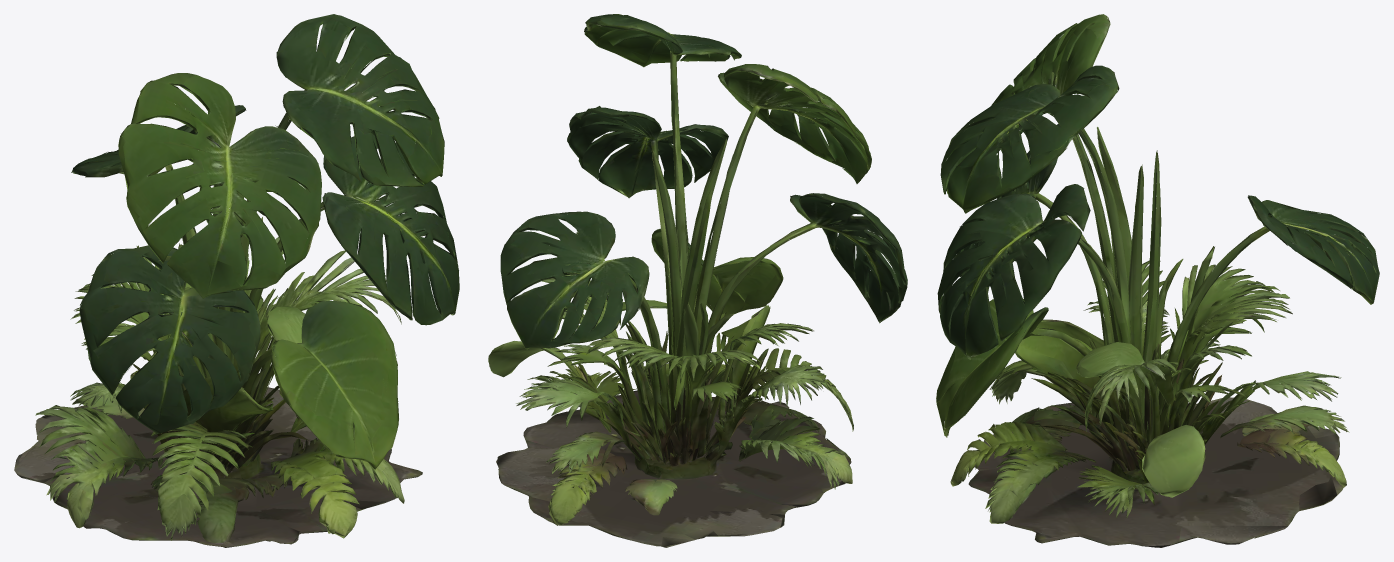
Rendered from monstera.glb.
3 renders of one model, left to right at view 1: azimuth 30°, elevation 25°; view 2: azimuth 150°, elevation 25°; view 3: azimuth 270°, elevation 25°, orthographic. The views are drawn at different scales.
Visible parts, largest first — view 1: Monstera; view 2: Monstera; view 3: Monstera.
Boxes of the visible parts, left/top/right/bottom form: Monstera: left=14, top=14, right=459, bottom=547; Monstera: left=488, top=14, right=907, bottom=547; Monstera: left=936, top=14, right=1379, bottom=547.
Size of the model in its own units: 0.7819 by 0.9084 by 0.8375.
Materials: 1 (1 with a texture image).
